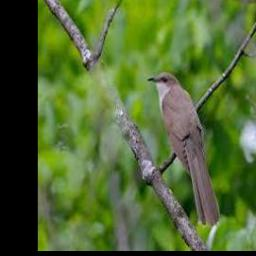Cuckoo: (147, 72, 220, 226)
